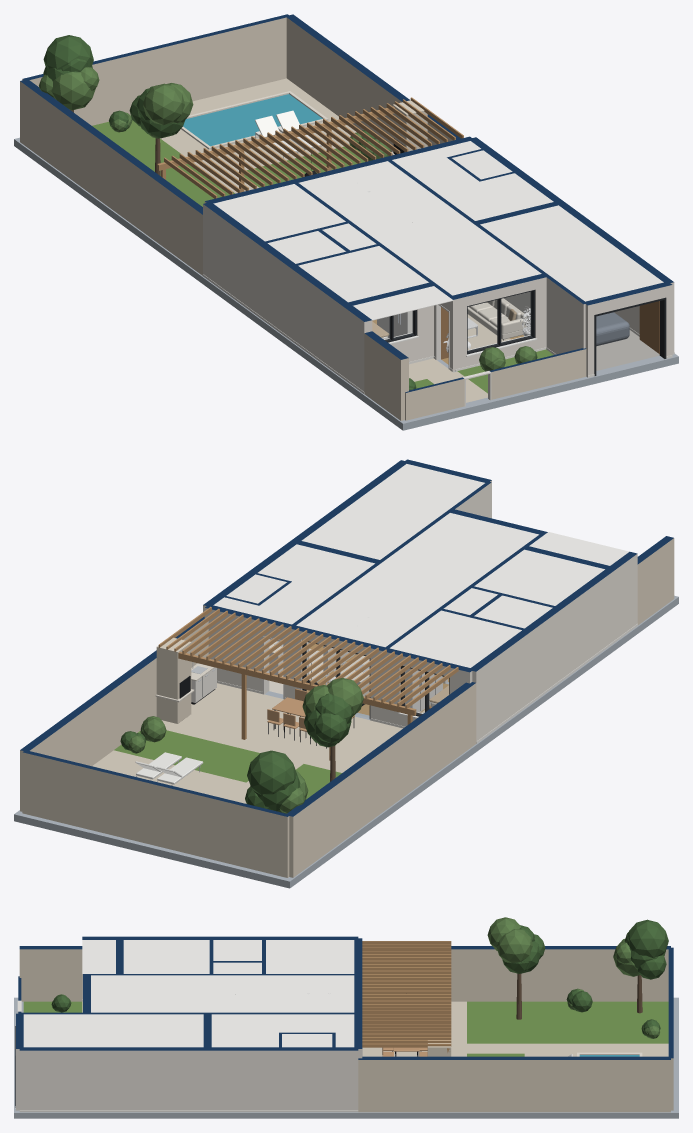
Rendered from casa.glb.
3 renders of one model, top to bottom at view 1: azimuth 30°, elevation 25°; view 2: azimuth 150°, elevation 25°; view 3: azimuth 270°, elevation 25°, orthographic. The views are drawn at different scales.
Visible parts, largest first — view 1: A, C, F, M; view 2: A, C, F, M; view 3: A, C, F, M.
Part boxes in pixels (x1,y1,x2,y2): A: (14,14,678,430); C: (213,141,663,320); F: (92,78,659,402); M: (255,110,629,352); A: (14,459,678,888); C: (213,464,628,667); F: (92,642,449,803); M: (135,617,449,785); A: (14,917,678,1118); C: (23,940,354,1047); F: (23,1001,668,1056); M: (307,993,572,1056).
Bounding box in the file's own units: 10.4 × 4.43 × 25.4.
